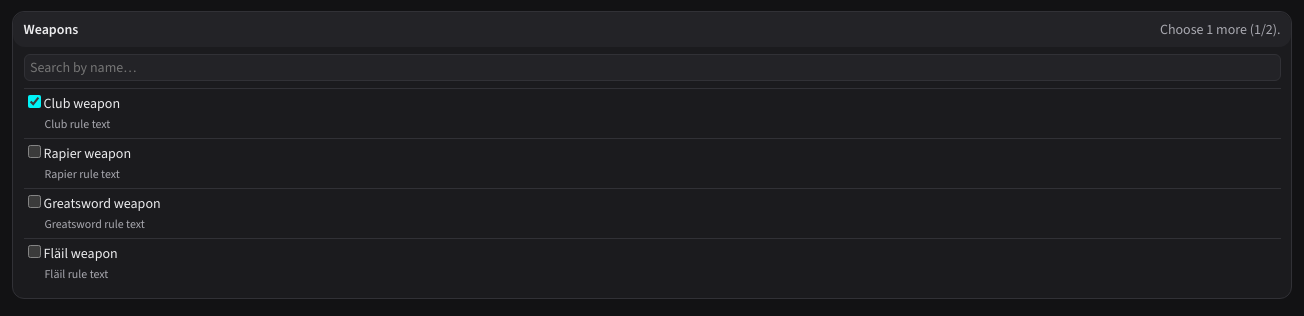
Test case: SearchableOptionList › pinSelected=false hides a selected option once it no longer matches the search (a browse-and-toggle list, not a fixed set of picks)
This screenshot has width=1304, height=316.
Type "rapier" into the search field named "Search Weapons" at x=652, y=67, box x1=24 y1=54 x2=1280 y2=81
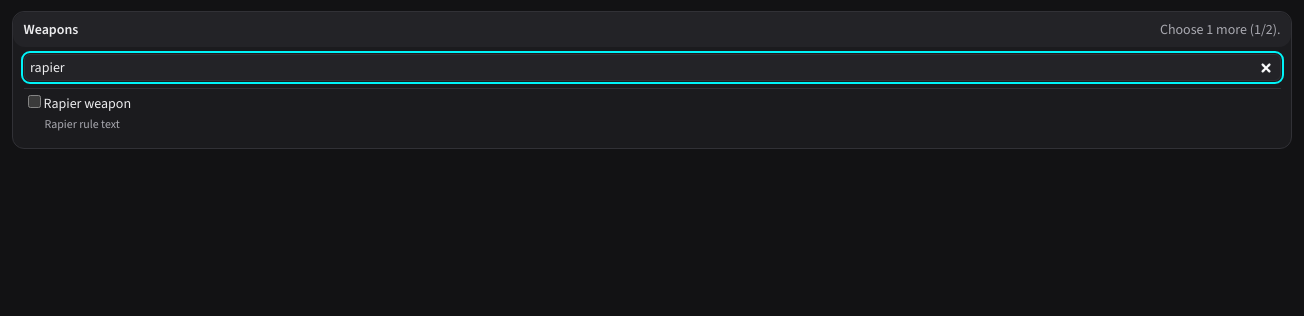
Check: the text "Club" is gone
